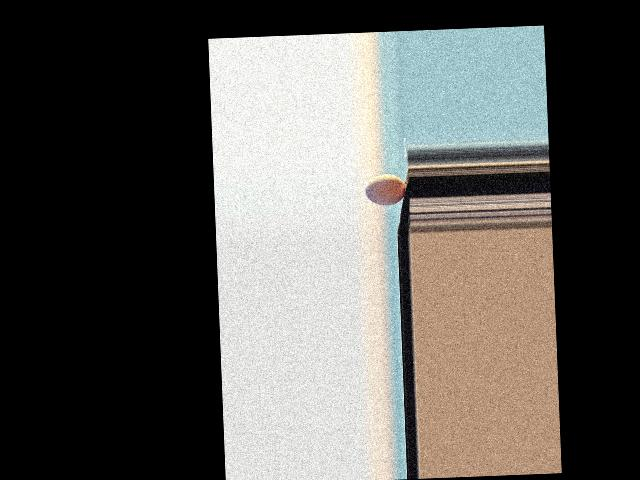egg: (364, 173, 405, 206)
